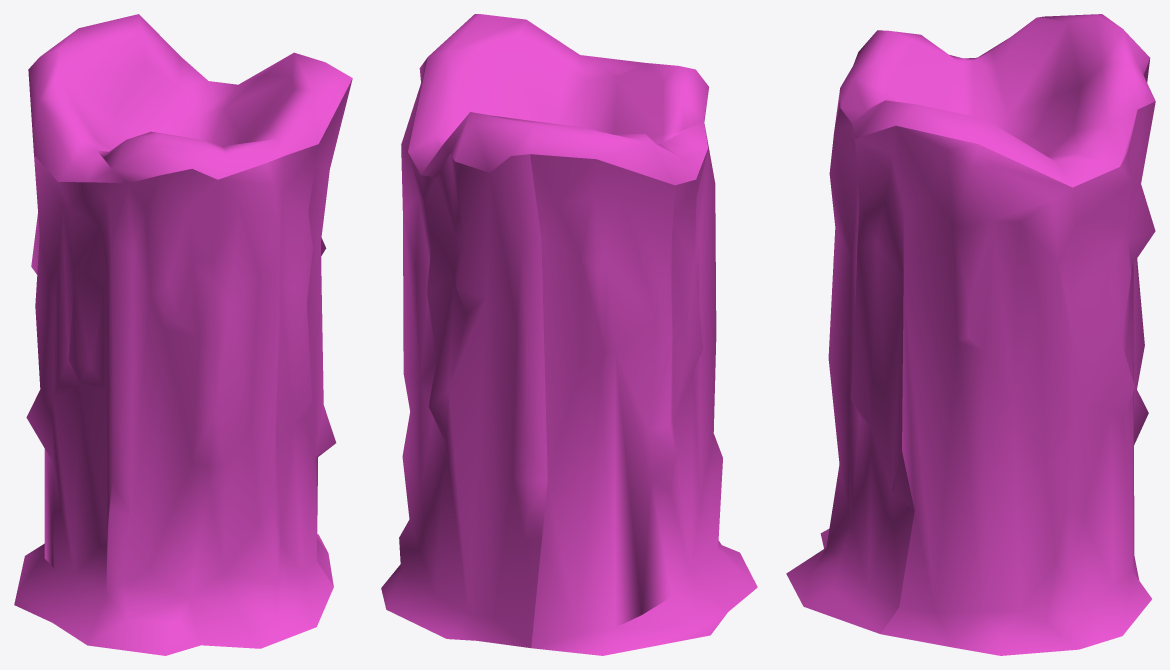
The model's file is candle_middle.fbx.
3 renders of one model, left to right at view 1: azimuth 30°, elevation 25°; view 2: azimuth 150°, elevation 25°; view 3: azimuth 270°, elevation 25°, orthographic. The views are drawn at different scales.
Parts seen in each view (by area): view 1: candle_middle; view 2: candle_middle; view 3: candle_middle.
Part boxes in pixels (left/top/right/bottom): candle_middle: left=14, top=14, right=352, bottom=655; candle_middle: left=381, top=14, right=757, bottom=655; candle_middle: left=786, top=14, right=1155, bottom=655.
Bounding box in the file's own units: 2.65 × 4.27 × 2.67.
